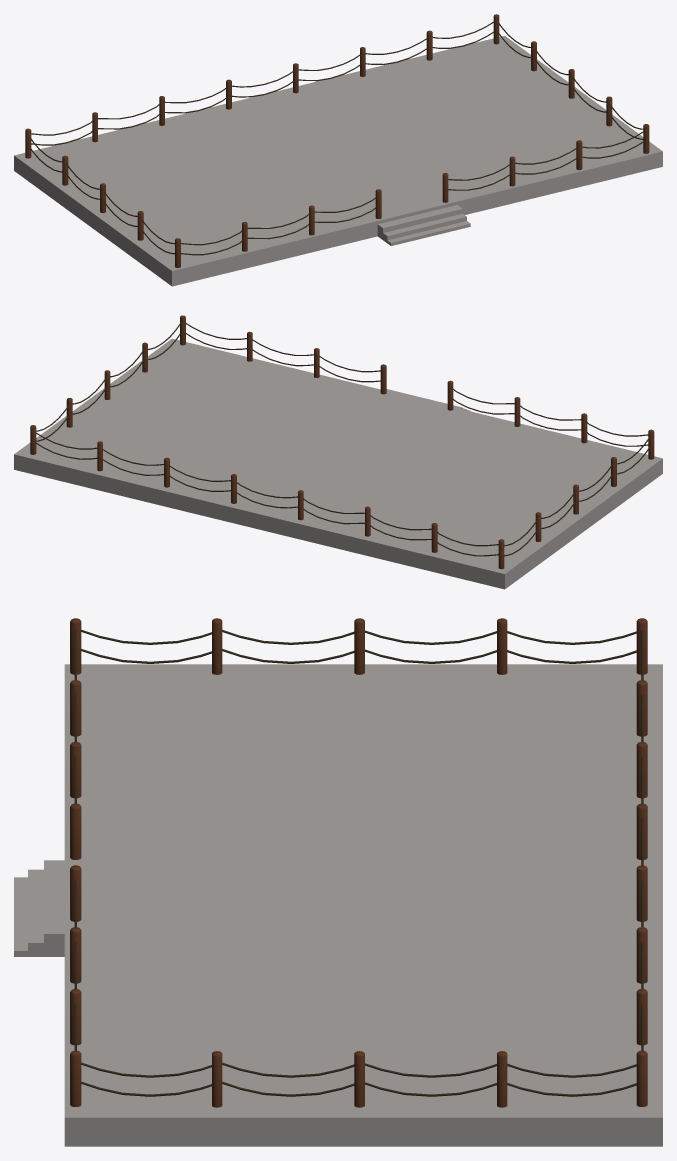
File: Stand_1.fbx
3 views of the same model, one above another, from view 1: azimuth 30°, elevation 25°; view 2: azimuth 150°, elevation 25°; view 3: azimuth 270°, elevation 25° (orthographic). The views are drawn at different scales.
Visible parts, largest first — view 1: Stand_1; view 2: Stand_1; view 3: Stand_1.
Boxes of the visible parts, left/top/right/bottom form: Stand_1: left=14, top=14, right=662, bottom=286; Stand_1: left=14, top=315, right=662, bottom=589; Stand_1: left=14, top=618, right=662, bottom=1146.
Bounding box in the file's own units: 1194 × 100 × 723.
